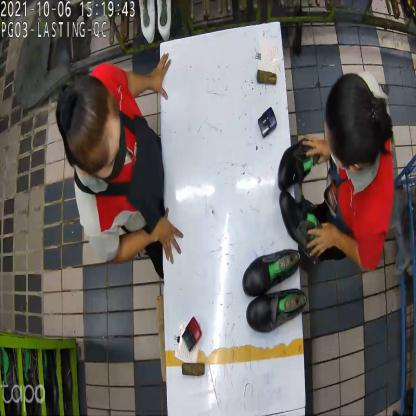shoes: (243, 250, 307, 333), (275, 137, 319, 250)
stamp: (179, 318, 204, 352), (258, 105, 276, 138)
